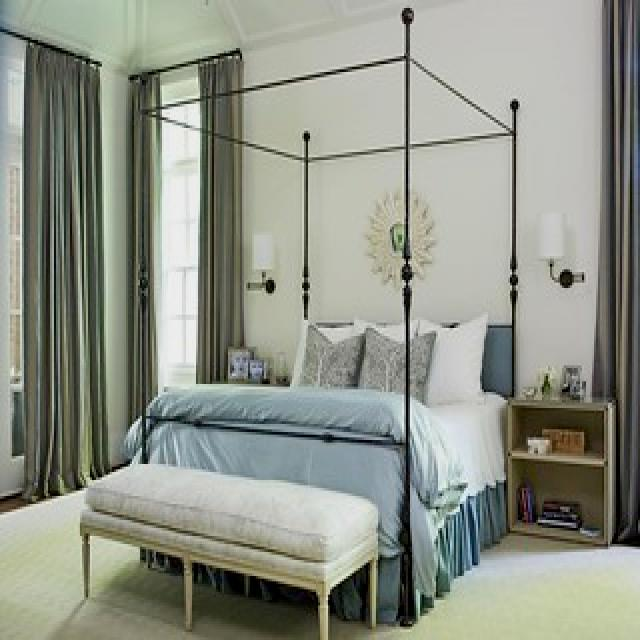bed: (134, 284, 518, 467)
